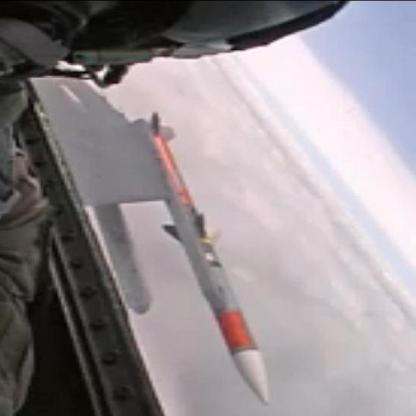MIL_TBM: (148, 117, 280, 411)
